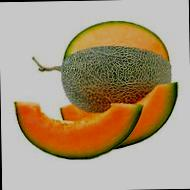Melon Ripe: (60, 20, 172, 110), (59, 80, 180, 148), (13, 97, 141, 161)
